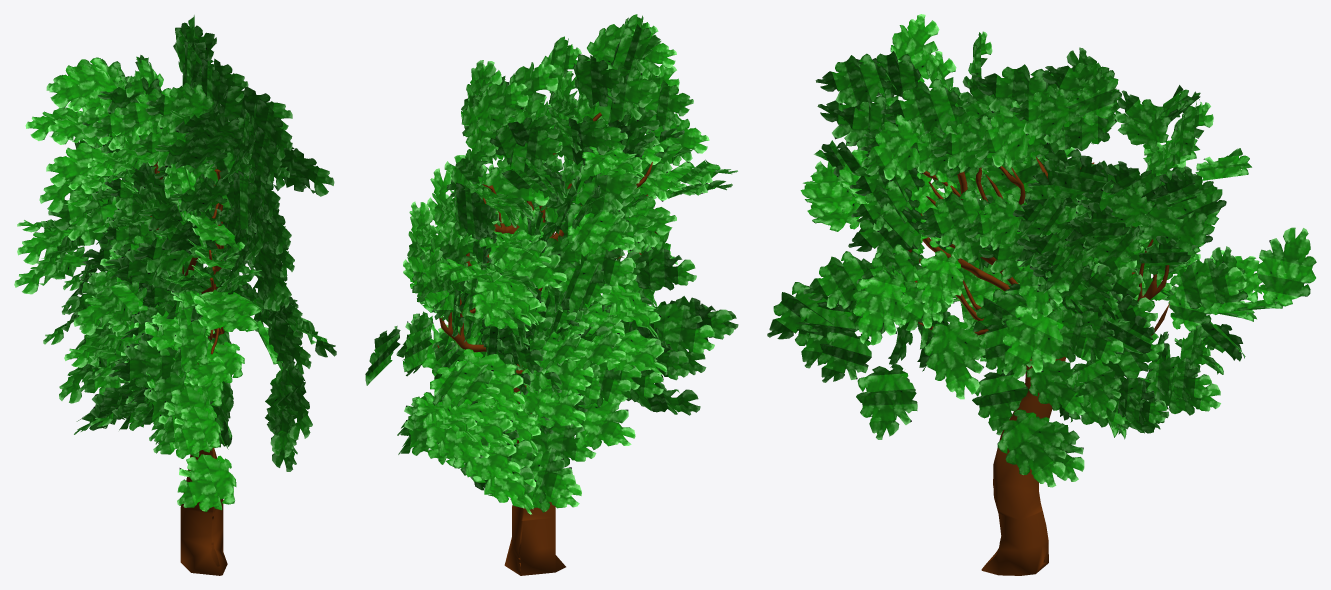
Rendered from tree5.fbx.
3 renders of one model, left to right at view 1: azimuth 30°, elevation 25°; view 2: azimuth 150°, elevation 25°; view 3: azimuth 270°, elevation 25°, orthographic. The views are drawn at different scales.
Parts seen in each view (by area): view 1: c090c787-1d18-485c-aed2-695b9deaaf12|d2bc2ccb-dd17-4b76-b26a (×82), c090c787-1d18-485c-aed2-695b9deaaf12; view 2: c090c787-1d18-485c-aed2-695b9deaaf12|d2bc2ccb-dd17-4b76-b26a (×91), c090c787-1d18-485c-aed2-695b9deaaf12; view 3: c090c787-1d18-485c-aed2-695b9deaaf12|d2bc2ccb-dd17-4b76-b26a (×82), c090c787-1d18-485c-aed2-695b9deaaf12.
Boxes of the visible parts, box(x1,y1,x2,y2) form: c090c787-1d18-485c-aed2-695b9deaaf12|d2bc2ccb-dd17-4b76-b26a (×82): box(14, 15, 336, 511); c090c787-1d18-485c-aed2-695b9deaaf12: box(150, 161, 227, 575); c090c787-1d18-485c-aed2-695b9deaaf12|d2bc2ccb-dd17-4b76-b26a (×91): box(365, 24, 737, 514); c090c787-1d18-485c-aed2-695b9deaaf12: box(437, 112, 657, 575); c090c787-1d18-485c-aed2-695b9deaaf12|d2bc2ccb-dd17-4b76-b26a (×82): box(767, 14, 1316, 487); c090c787-1d18-485c-aed2-695b9deaaf12: box(908, 157, 1169, 575).
Size of the model in its own units: 44.7 by 111 by 104.
2 materials, 2 textured.
